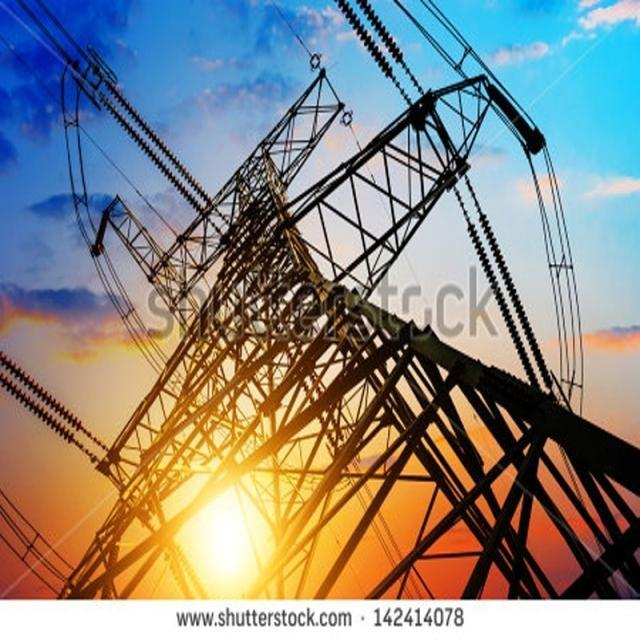non-critical vegetation: (11, 49, 632, 594)
